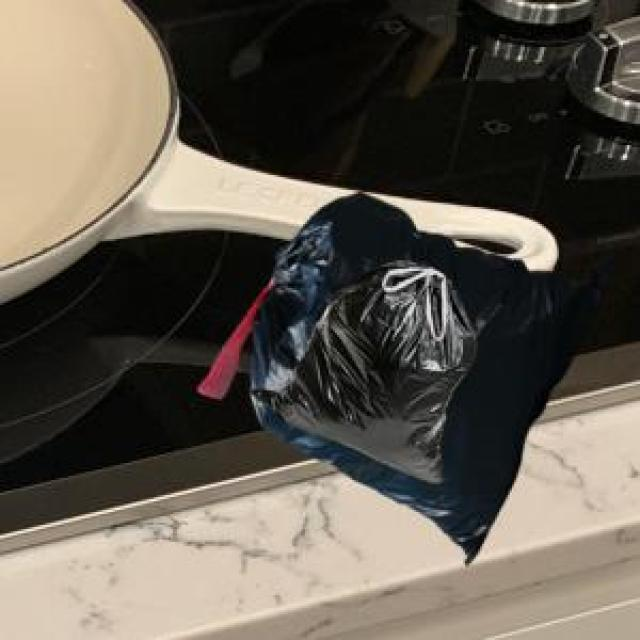miscellaneous trash: (194, 188, 610, 559), (248, 256, 472, 480)
